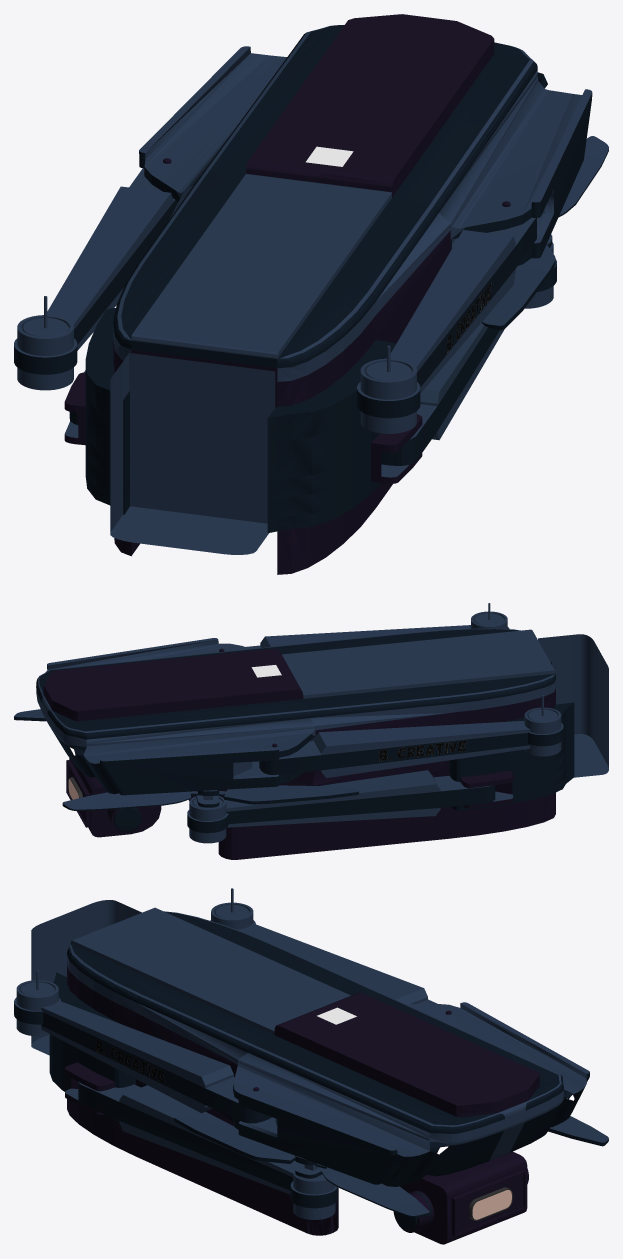
File: body_01_blue.132a9c85.glb
3 views of the same model, one above another, from view 1: azimuth 30°, elevation 25°; view 2: azimuth 150°, elevation 25°; view 3: azimuth 270°, elevation 25° (orthographic). The views are drawn at different scales.
Parts seen in each view (by area): view 1: Cube.028, Cube.039, Cube.033, Cube.029, Cube.035, Plane.024, Plane.023; view 2: Cube.028, Cube.029, Cube.030, Cube.039, Cube.033, Plane.020, Cube.037, Plane.019, Cylinder.006, Cube.032; view 3: Cube.028, Cube.033, Cube.035, Cube.037, Cube.029, Cube.039, Plane.024, Plane.023, Plane.019, Cylinder.007, Cube.040.
Part boxes in pixels (box(x1,y1,x2,y2)): Cube.028: box(64, 14, 592, 574); Cube.039: box(110, 353, 275, 554); Cube.033: box(357, 217, 536, 433); Cube.029: box(14, 168, 178, 390); Cube.035: box(381, 242, 556, 465); Plane.024: box(482, 244, 555, 330); Plane.023: box(558, 136, 608, 217); Cube.028: box(36, 628, 574, 859); Cube.029: box(259, 695, 563, 777); Cube.030: box(187, 770, 495, 843); Cube.039: box(538, 634, 608, 777); Cube.033: box(246, 603, 509, 648); Plane.020: box(216, 785, 358, 804); Cube.037: box(66, 758, 161, 837); Plane.019: box(62, 791, 200, 810); Cylinder.006: box(107, 807, 143, 834); Cube.032: box(196, 790, 219, 807); Cube.028: box(49, 907, 589, 1235); Cube.033: box(14, 970, 271, 1123); Cube.035: box(78, 1082, 337, 1219); Cube.037: box(400, 1151, 527, 1244); Cube.029: box(210, 888, 437, 1004); Cube.039: box(31, 900, 141, 1055); Plane.024: box(174, 1116, 295, 1163); Plane.023: box(315, 1164, 429, 1217); Plane.019: box(548, 1116, 608, 1146); Cylinder.007: box(393, 1190, 434, 1232); Cube.040: box(472, 1190, 511, 1219).
Size of the model in its own units: 3.58 by 1.11 by 3.48.
12 materials, 1 textured.
